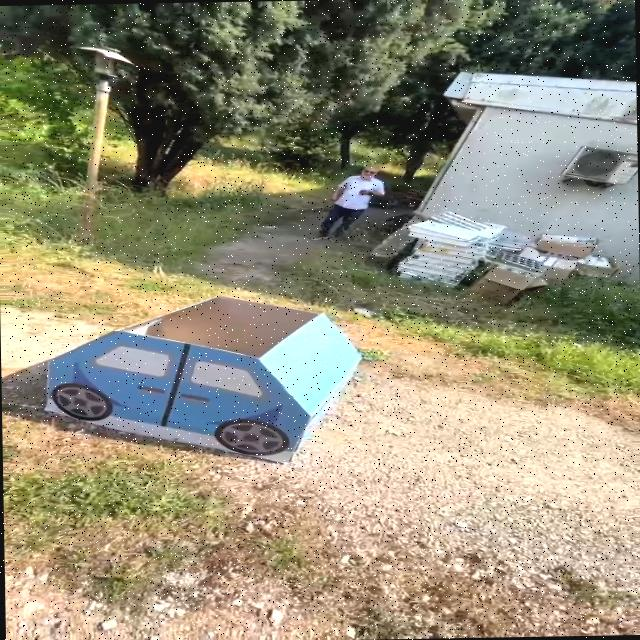blue_car: (19, 275, 397, 481)
